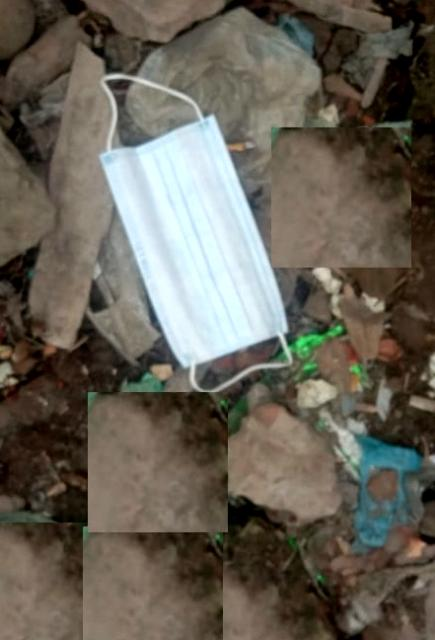mask: (89, 102, 308, 378)
